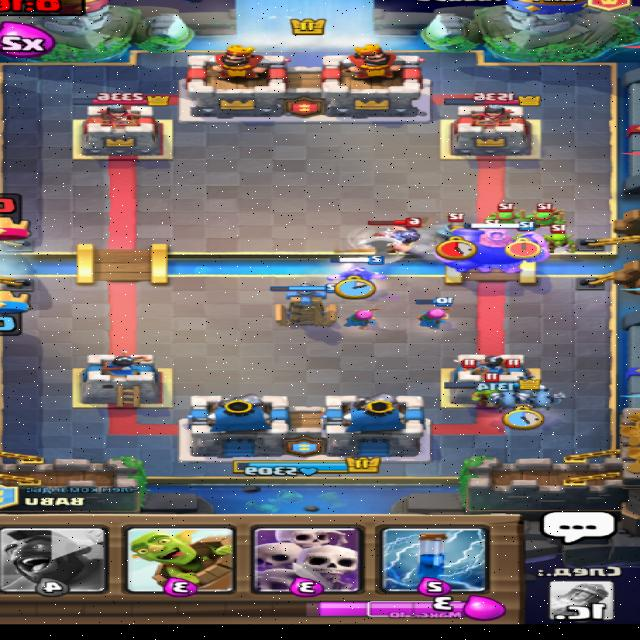Enemy-Executioner: (348, 216, 426, 264)
Enemy-Goblin: (471, 371, 510, 408), (544, 224, 580, 254)
Enemy-Knight: (436, 211, 472, 242)
Enemy-SpearGoblin: (523, 201, 568, 226), (486, 202, 522, 223)
Player-Archer: (416, 296, 455, 329), (342, 307, 383, 330)
Player-ElectroWizard: (327, 254, 389, 281)
Player-Minion: (527, 387, 570, 410), (489, 388, 532, 411), (514, 374, 548, 390)
Player-RoyalGiant: (434, 220, 553, 274)
Player-Tesla: (270, 282, 340, 327)
